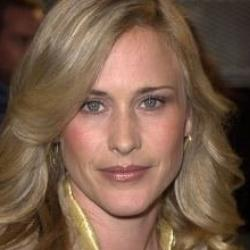face: (2, 3, 242, 237)
